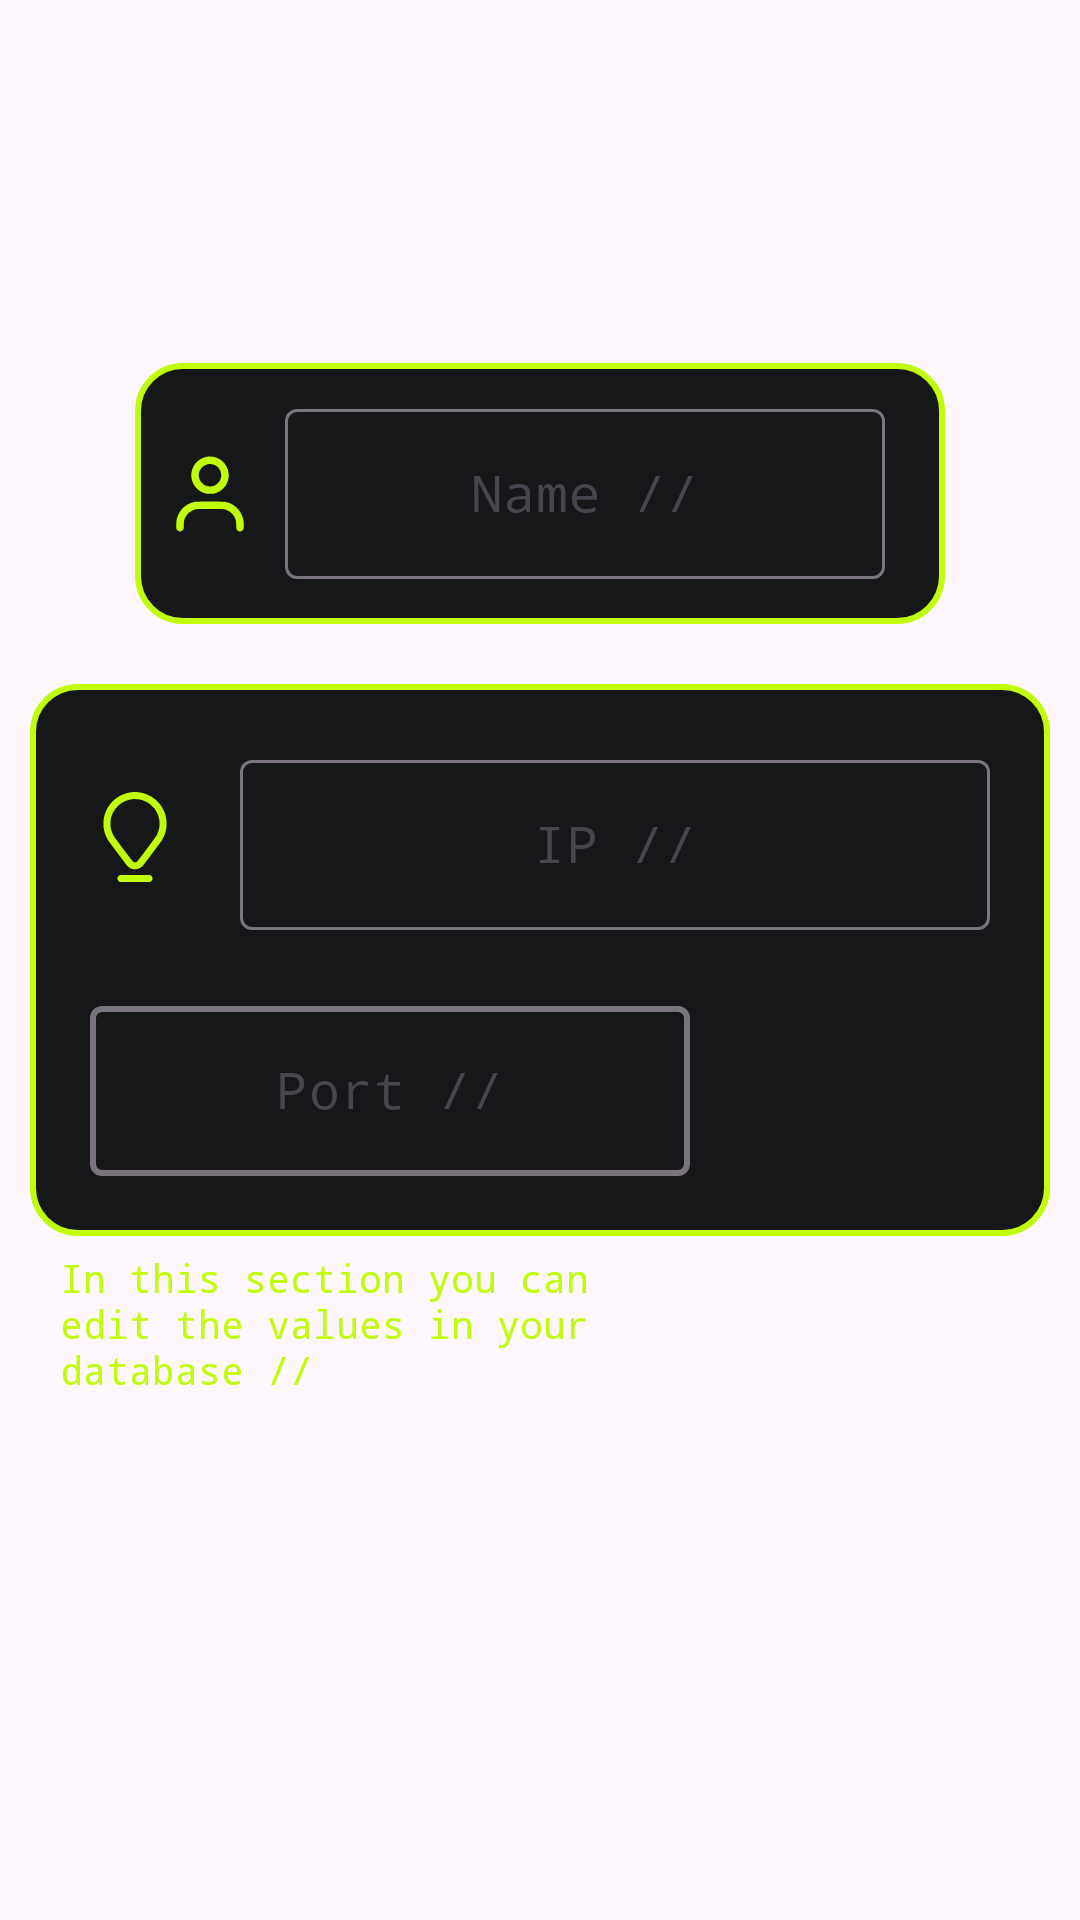

Screen size 1080px x 1920px. Icon name, then its box in pixels as [x1, y1, x2, y2]:
person: [176, 456, 244, 532]
